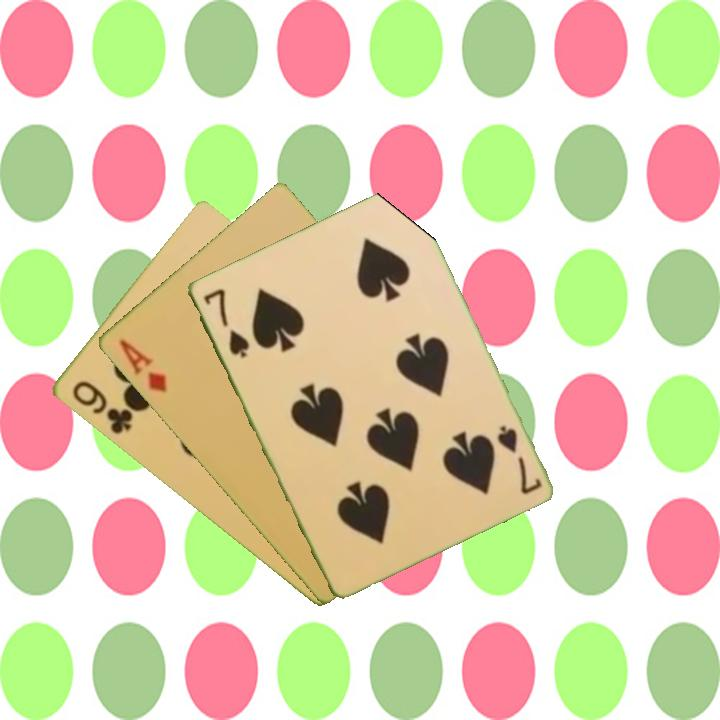7s: (199, 285, 252, 361), (493, 422, 545, 498)
9c: (68, 377, 135, 438)
Ad: (115, 335, 170, 396)
